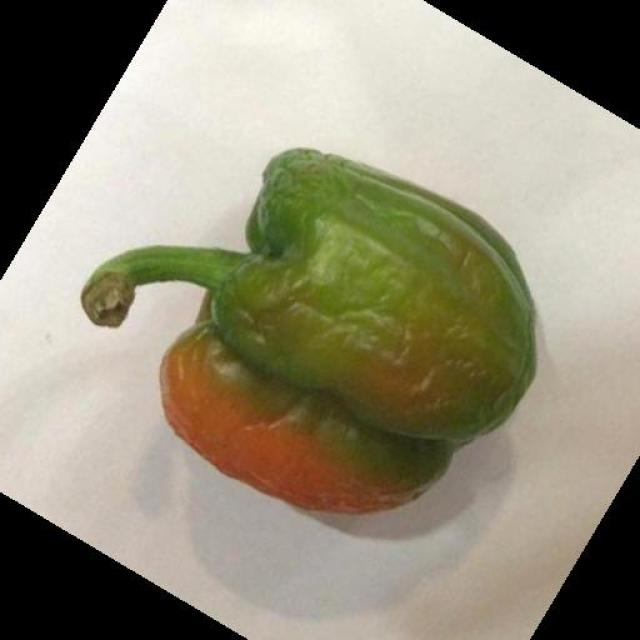Stale_Capsicum: (113, 166, 504, 502)
